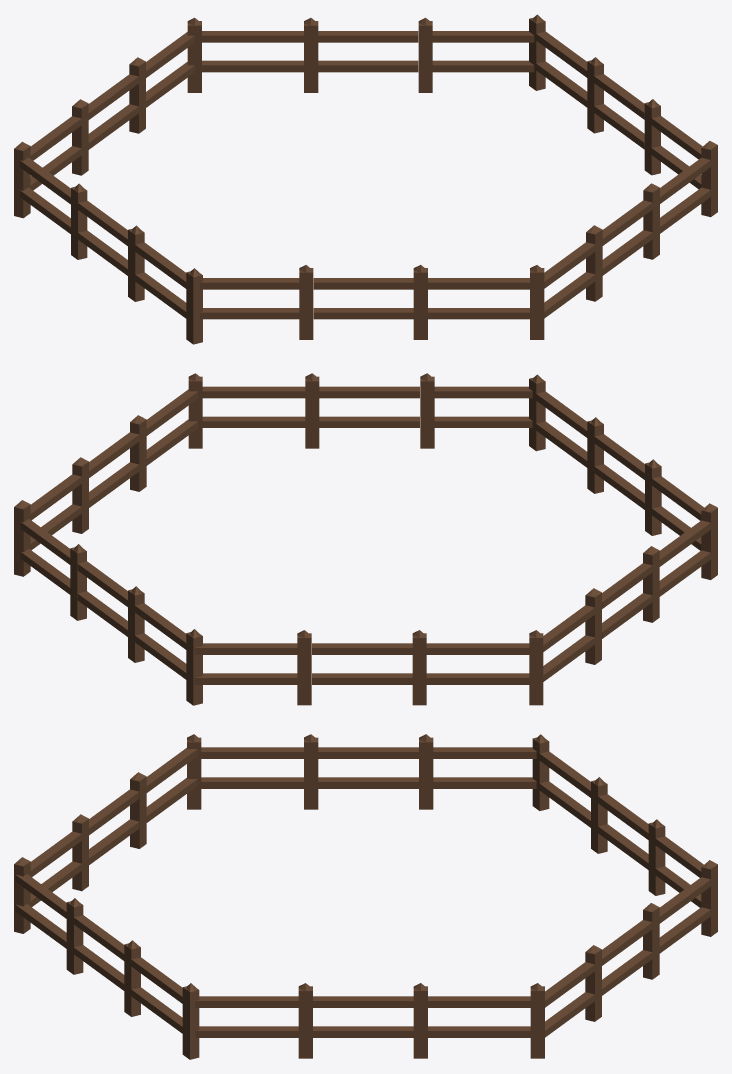
The model's file is hexContour.glb.
3 views of the same model, one above another, from view 1: azimuth 30°, elevation 25°; view 2: azimuth 150°, elevation 25°; view 3: azimuth 270°, elevation 25° (orthographic).
Visible parts, largest first — view 1: Cube.032, Cube.018, Cube.040, Cube.016, Cube.035, Cube.017; view 2: Cube.016, Cube.035, Cube.032, Cube.040, Cube.017, Cube.018; view 3: Cube.017, Cube.040, Cube.016, Cube.032, Cube.018, Cube.035.
Part boxes in pixels (x1,y1,x2,y2): Cube.032: (187,17,534,92); Cube.018: (200,265,544,339); Cube.040: (19,157,202,344); Cube.016: (544,141,717,318); Cube.035: (14,32,194,218); Cube.017: (529,14,702,189); Cube.016: (188,373,532,448); Cube.035: (194,630,543,705); Cube.032: (20,519,202,705); Cube.040: (543,503,717,681); Cube.017: (14,389,197,576); Cube.018: (529,374,704,550); Cube.017: (195,983,544,1058); Cube.040: (187,734,536,809); Cube.016: (15,874,199,1059); Cube.032: (545,860,717,1037); Cube.018: (14,748,197,933); Cube.035: (532,734,703,907).
Bounding box in the file's own units: 16.12 × 2.22 × 18.49.
